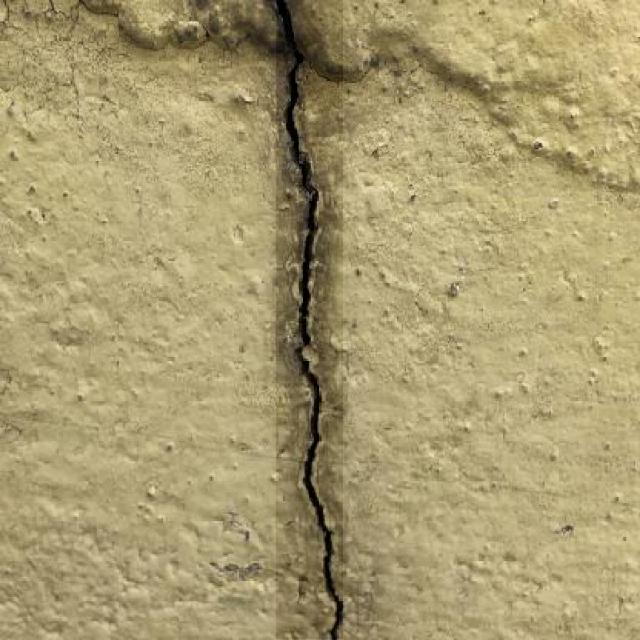vertical crack: (276, 0, 343, 639)
